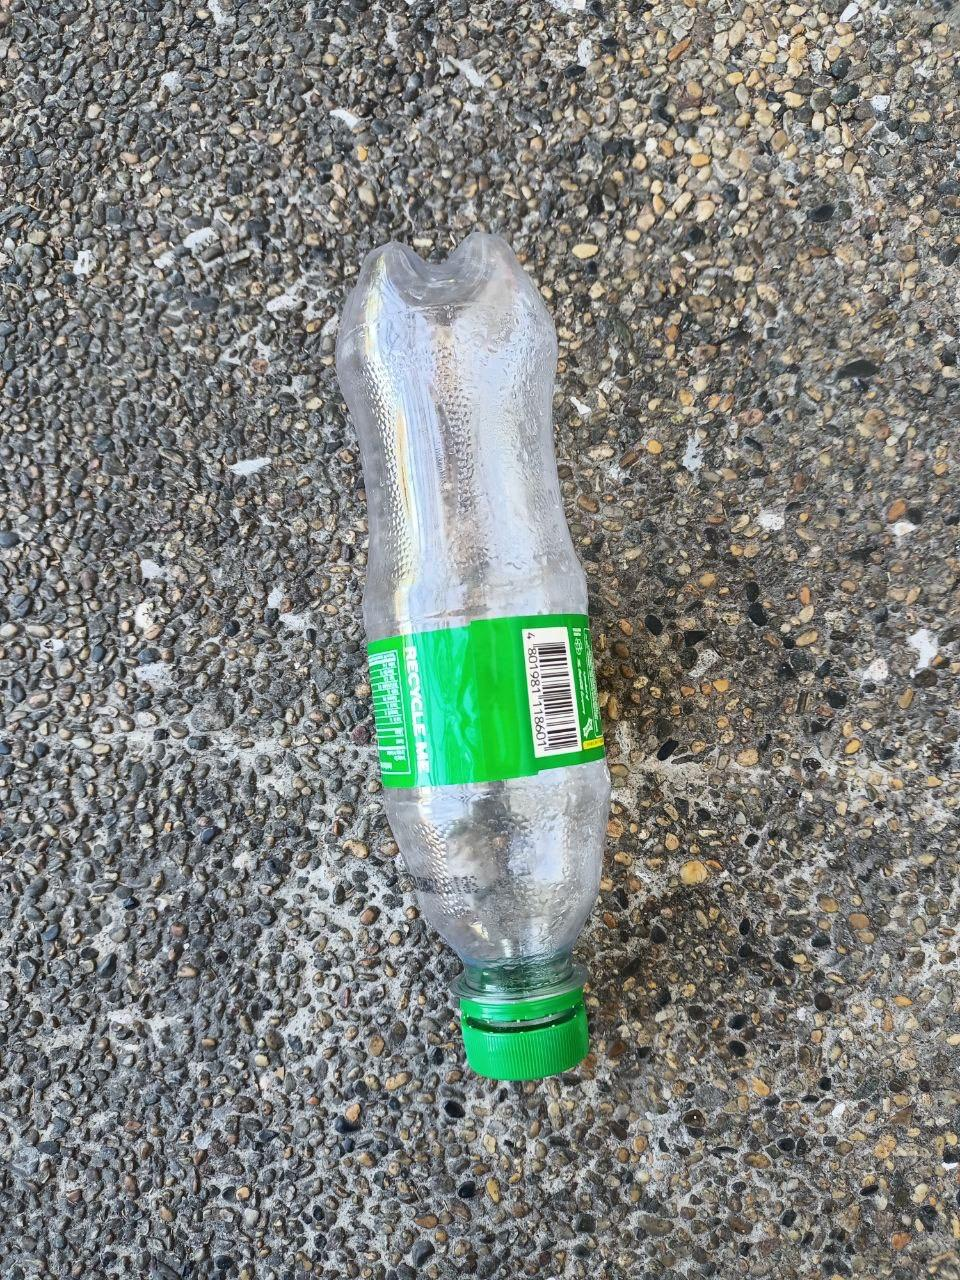plastic: (232, 188, 714, 1146)
